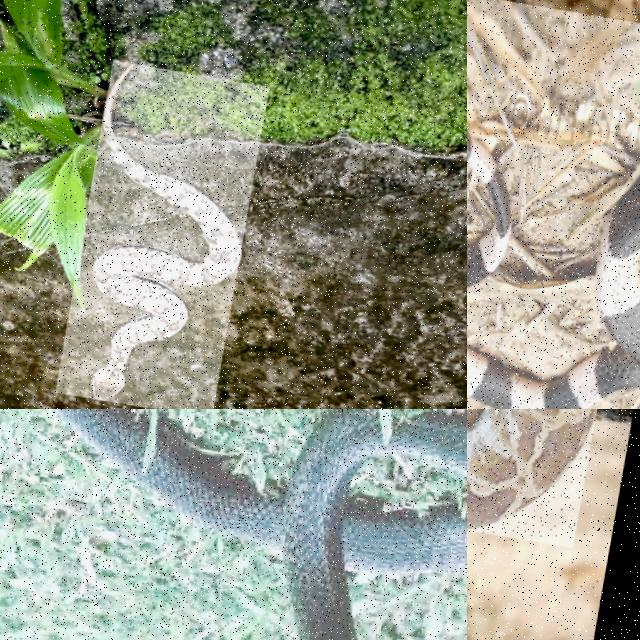Bungarus candidus: (467, 179, 639, 408)
Naja kaouthia: (53, 409, 466, 639)
Ovophis monticola: (93, 64, 241, 399)
Python bivittatus: (467, 409, 595, 527)
snake: (53, 409, 466, 639), (93, 64, 241, 399), (467, 179, 639, 408), (467, 409, 595, 527)
